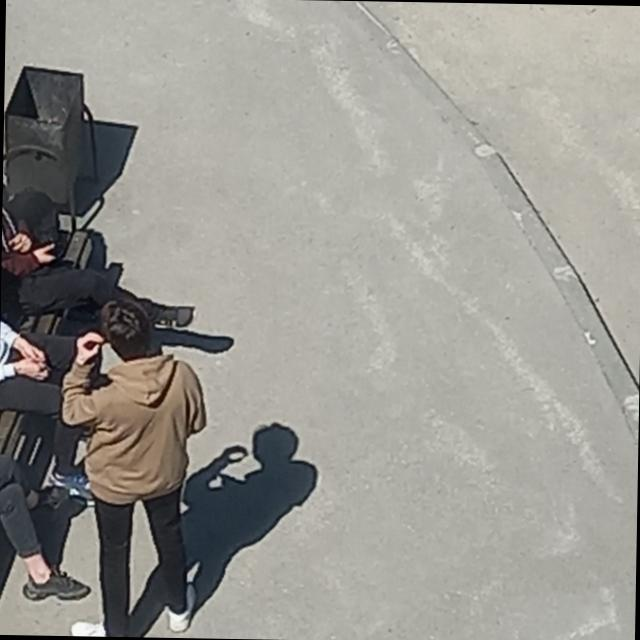person: (56, 294, 209, 638), (0, 190, 196, 326), (0, 318, 97, 495), (0, 450, 91, 601)
